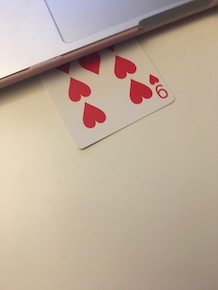NineOfHearts: (29, 34, 176, 152)
